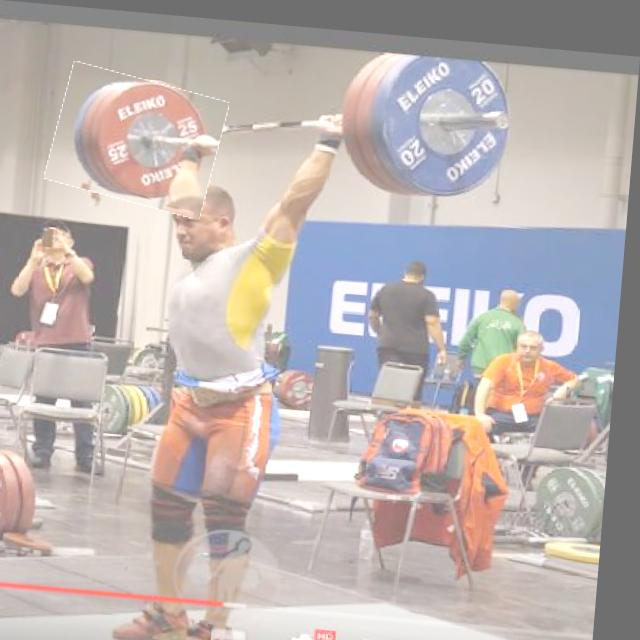barbell: (52, 66, 229, 212)
